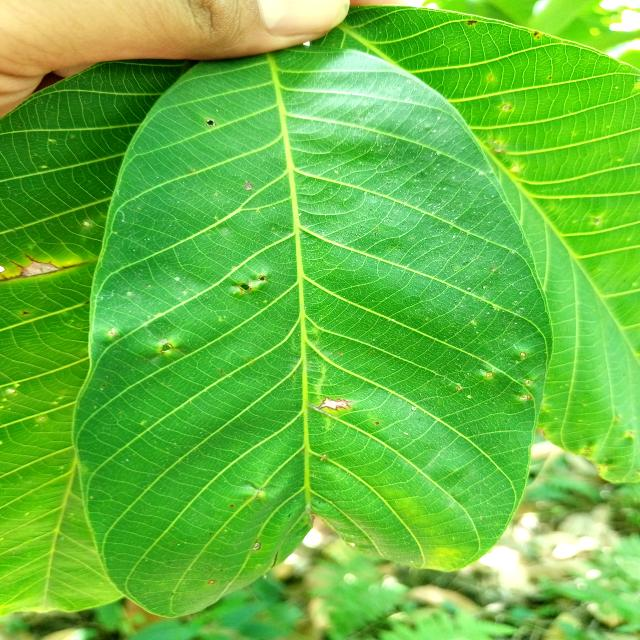Colletotrichum: (205, 119, 216, 127), (208, 580, 215, 584)
Corynespora: (0, 252, 89, 281), (316, 397, 356, 410), (11, 261, 26, 270), (271, 552, 279, 568), (26, 253, 38, 263)
Leaf-Blight: (23, 262, 61, 276)
